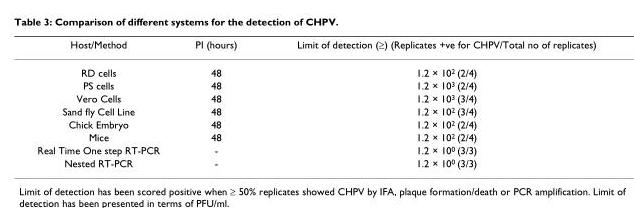table: (36, 37, 595, 168)
table column: (266, 37, 595, 168), (36, 37, 176, 168), (176, 37, 266, 168)
table column header: (36, 37, 595, 58)
table row: (36, 37, 595, 58), (36, 58, 595, 78), (36, 78, 595, 91), (36, 91, 595, 104), (36, 104, 595, 117), (36, 117, 595, 130), (36, 130, 595, 143), (36, 143, 595, 156), (36, 156, 595, 168)
